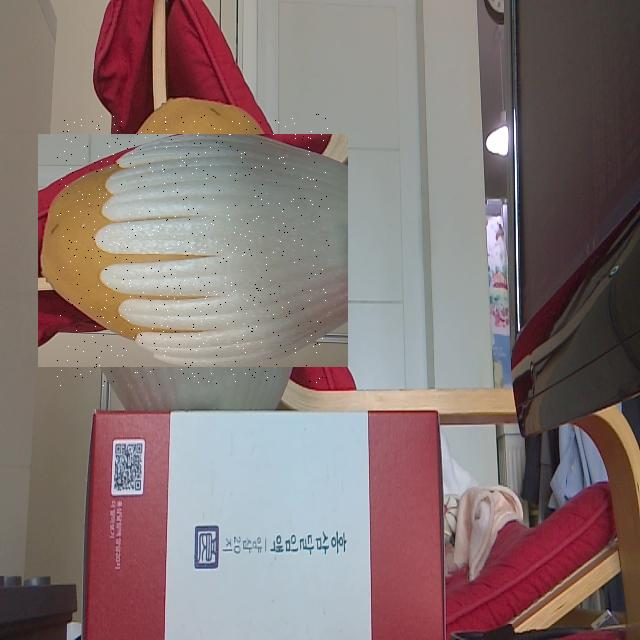pear: (57, 114, 329, 386)
